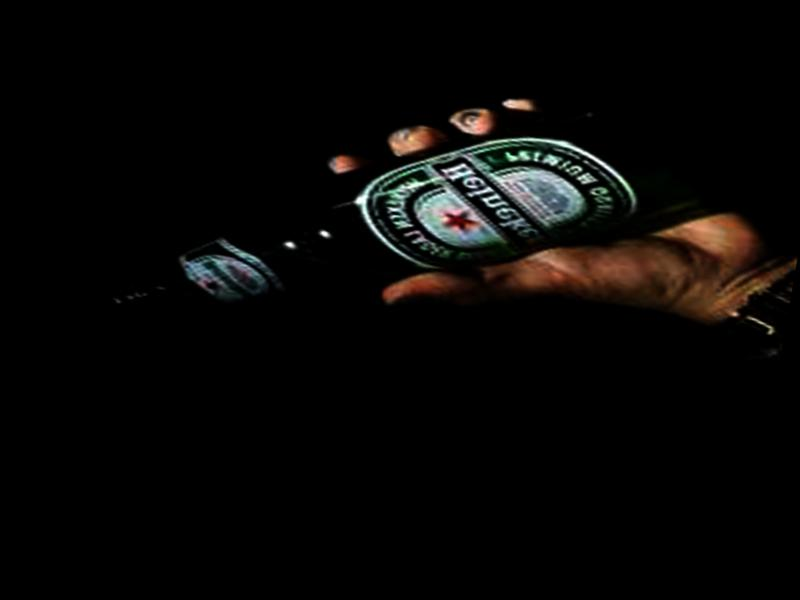Beer: (86, 22, 745, 415)
